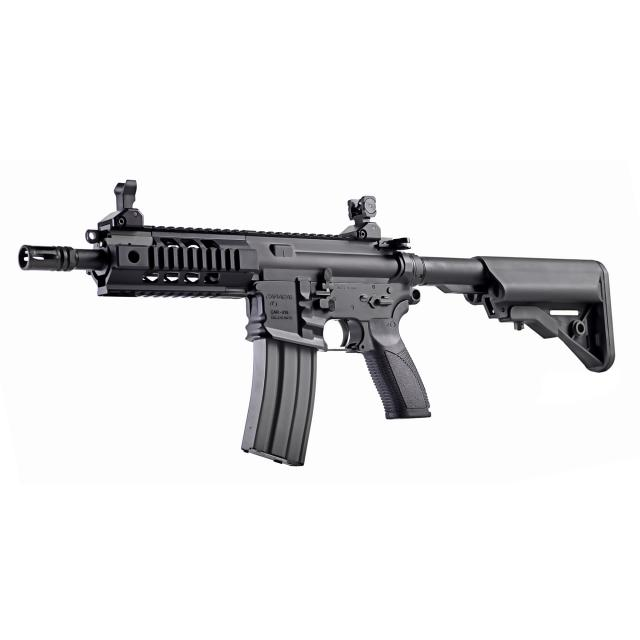Rifle: (17, 181, 617, 468)
